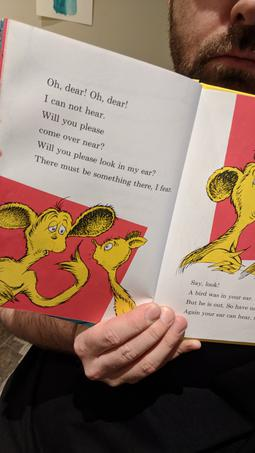text block: (27, 70, 176, 199), (174, 273, 255, 327)
